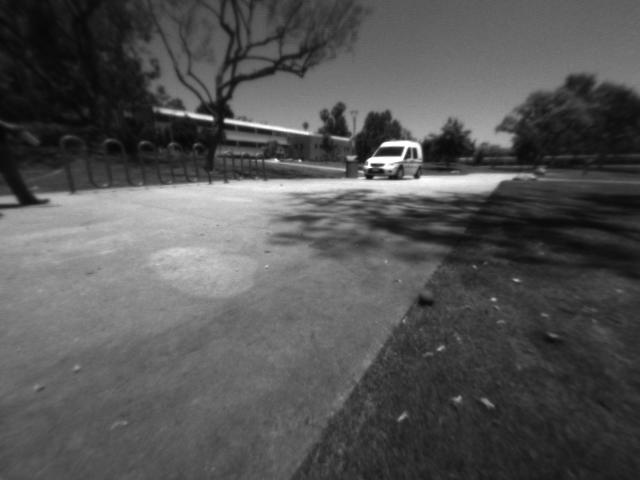dogtoy: (410, 279, 442, 311)
